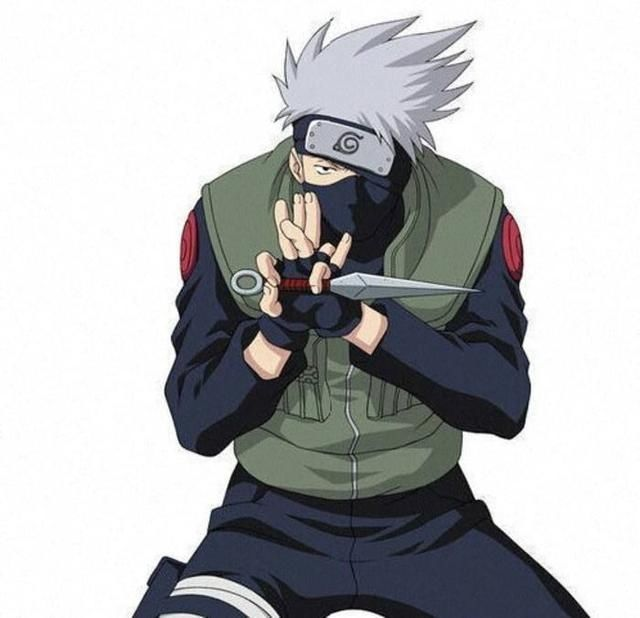kakashi: (289, 109, 417, 250)
